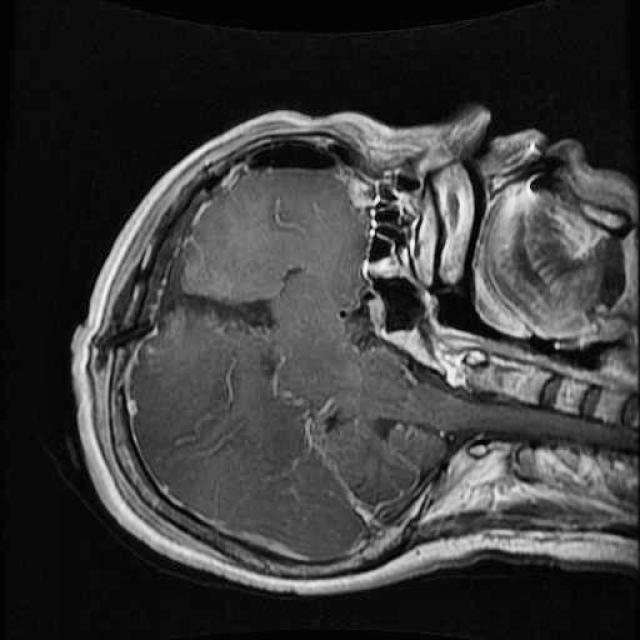Tumor: (113, 226, 294, 365)
